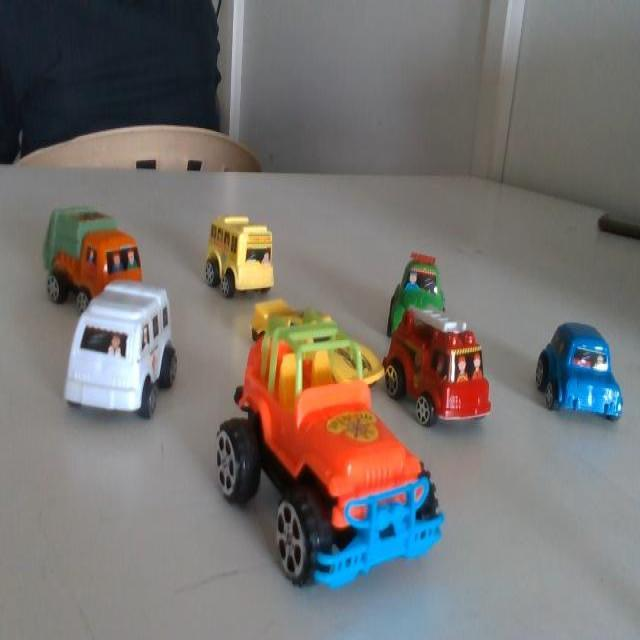car: (304, 405, 453, 591), (534, 310, 639, 446), (74, 293, 181, 408), (272, 298, 383, 406), (412, 308, 499, 439), (60, 200, 154, 312), (395, 256, 461, 345), (226, 210, 285, 294)
